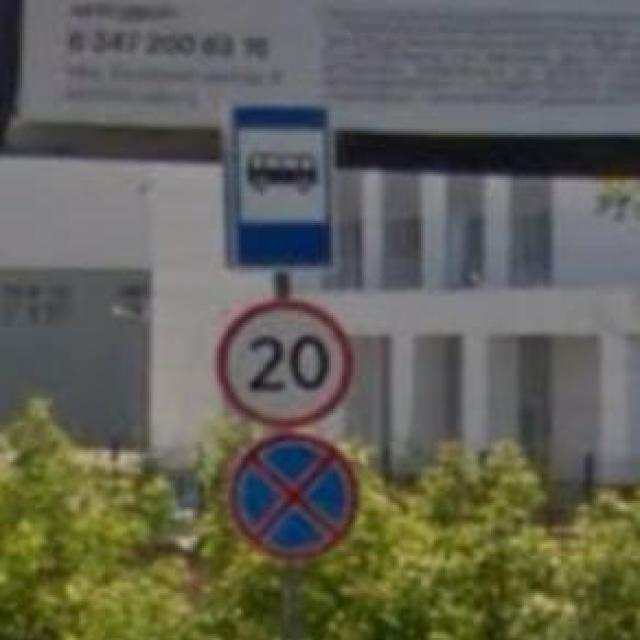Ograniczenie predkosci do 20: (217, 298, 353, 428)
